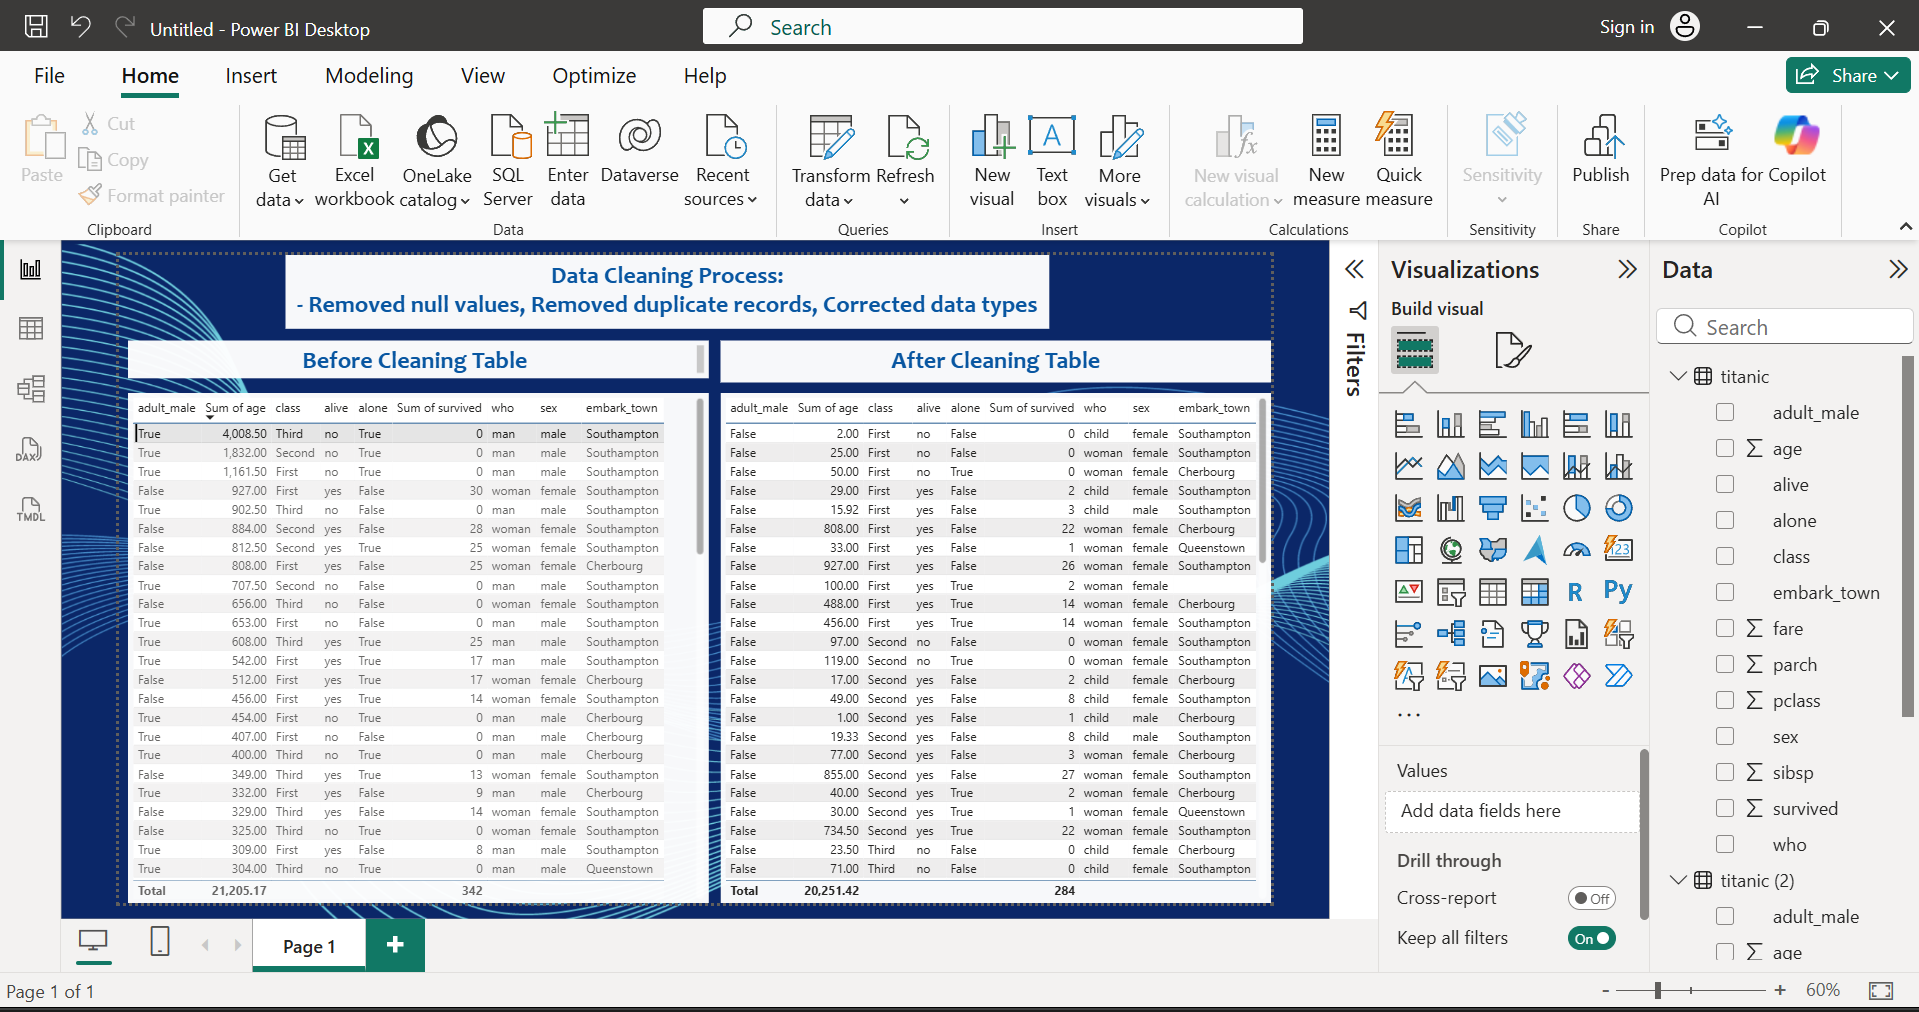

The page's visual inventory and layout, read from the dashboard file:
{"tool":"powerbi","page":{"name":"Page 1","canvas":[1280,720],"ordinal":0},"visuals":[{"type":"tableEx","fields":{"Values":["titanic.adult_male","Sum(titanic.age)","titanic.class","titanic.alive","titanic.alone","Sum(titanic.survived)","titanic.who","titanic.sex","titanic.embark_town"]},"box":[10,153.3,645,566.7],"z":1},{"type":"tableEx","fields":{"Values":["titanic (2).adult_male","Sum(titanic (2).age)","titanic (2).class","titanic (2).alive","titanic (2).alone","Sum(titanic (2).survived)","titanic (2).who","titanic (2).sex","titanic (2).embark_town"]},"box":[668.3,153.3,611.7,566.7],"z":2},{"type":"textbox","box":[10,95,645,41.7],"z":3},{"type":"textbox","box":[668.3,95,611.7,46.7],"z":4},{"type":"textbox","box":[185,0,848.3,81.7],"z":5}]}

Visuals, with their boxes on the page's 1280x720 design canvas (x1, y1, x2, y2). These are canvas units, not pixel positions in the 1919x1012 screenshot, which may show the page scaled, cropped or inside an application window:
tableEx - titanic.adult_male x Sum(titanic.age): 10, 153, 655, 720
tableEx - titanic (2).adult_male x Sum(titanic (2).age): 668, 153, 1280, 720
textbox: 10, 95, 655, 137
textbox: 668, 95, 1280, 142
textbox: 185, 0, 1033, 82
